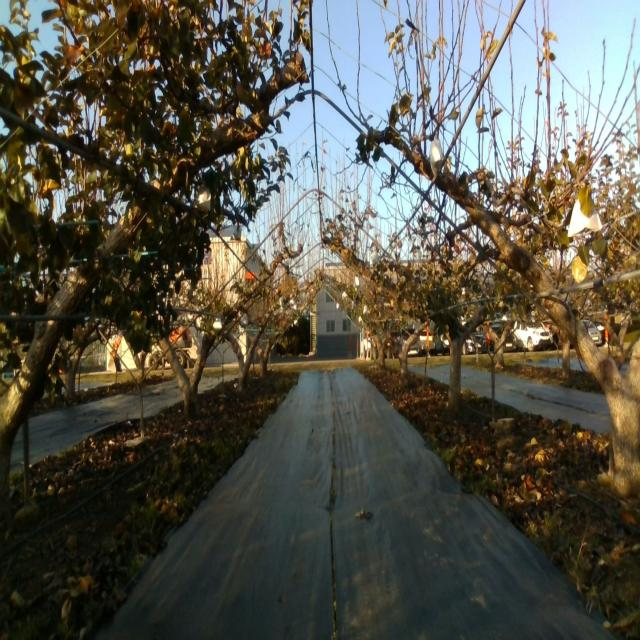pearbags: (567, 200, 603, 239), (192, 180, 212, 212), (429, 138, 443, 179)
